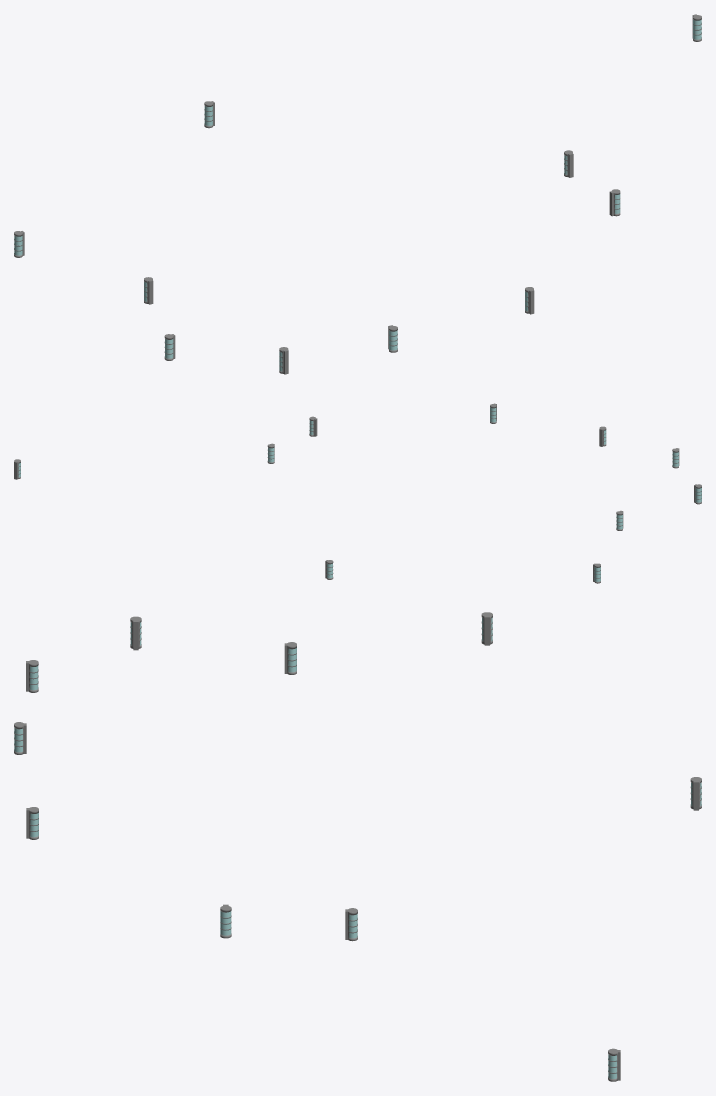
Rendered from Lamparas.fbx.
3 views of the same model, one above another, from view 1: azimuth 30°, elevation 25°; view 2: azimuth 150°, elevation 25°; view 3: azimuth 270°, elevation 25° (orthographic). The views are drawn at different scales.
Bounding box in the file's own units: 18016 × 539 × 11869.
